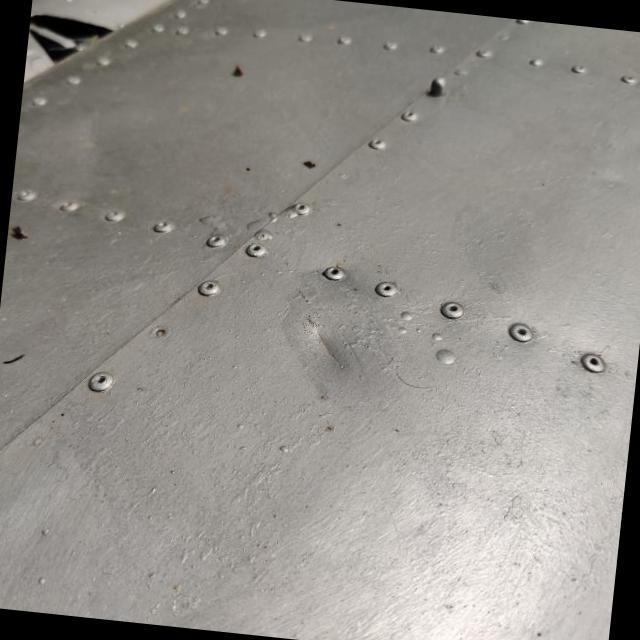Dent: (270, 286, 400, 412)
